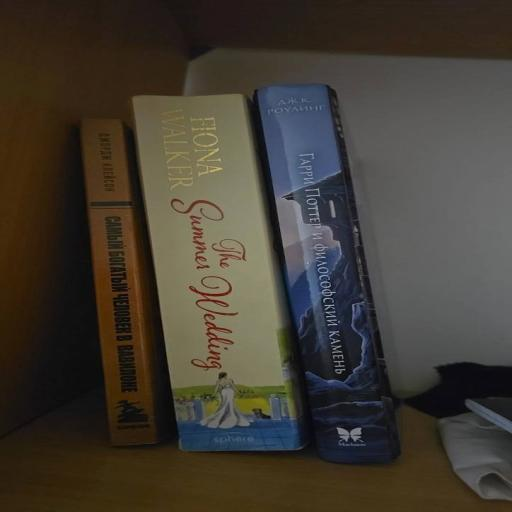bed: (133, 95, 306, 450), (256, 85, 399, 463), (80, 119, 170, 445)
